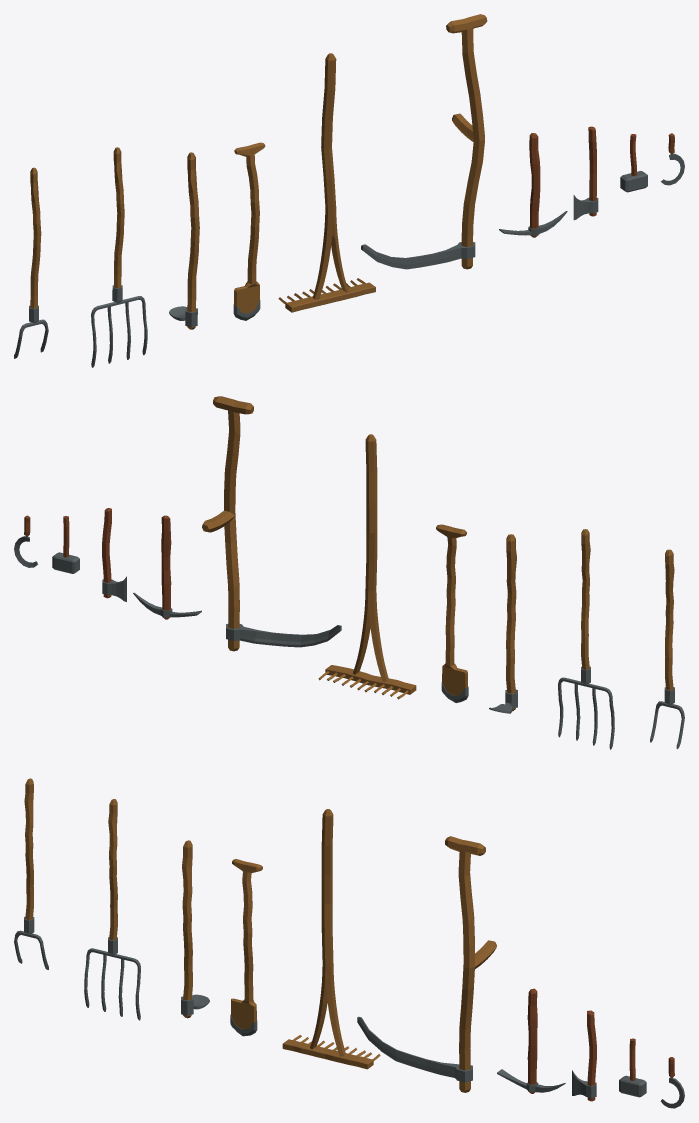
Rendered from axe.glb.
The picture shows the model from 3 angles, top to bottom: view 1: azimuth 30°, elevation 25°; view 2: azimuth 150°, elevation 25°; view 3: azimuth 330°, elevation 25°; orthographic projection.
Parts seen in each view (by area): view 1: Sense, Rake, Forke, Spade, Hoe, Bicorne, Pickaxe, Hammer, Axe; view 2: Sense, Rake, Forke, Spade, Hoe, Bicorne, Pickaxe, Hammer, Axe; view 3: Sense, Rake, Forke, Spade, Hoe, Bicorne, Pickaxe, Hammer, Axe.
Part boxes in pixels (box(x1,y1,x2,y2)): Sense: box(361, 14, 487, 269); Rake: box(278, 53, 375, 312); Forke: box(91, 147, 147, 367); Spade: box(233, 142, 265, 320); Hoe: box(169, 152, 199, 329); Bicorne: box(14, 167, 48, 358); Pickaxe: box(499, 133, 567, 237); Hammer: box(620, 134, 647, 192); Axe: box(588, 126, 596, 216); Sense: box(202, 396, 341, 651); Rake: box(318, 434, 416, 699); Forke: box(558, 529, 614, 749); Spade: box(436, 524, 468, 702); Hoe: box(489, 534, 517, 713); Bicorne: box(650, 549, 684, 748); Pickaxe: box(133, 515, 201, 619); Hammer: box(52, 516, 79, 573); Axe: box(102, 508, 111, 598); Sense: box(357, 836, 496, 1092); Rake: box(282, 809, 380, 1069); Forke: box(84, 799, 140, 1020); Spade: box(230, 859, 262, 1036); Hoe: box(181, 840, 209, 1018); Bicorne: box(14, 778, 48, 969); Pickaxe: box(497, 988, 565, 1093); Hammer: box(619, 1038, 646, 1097); Axe: box(587, 1010, 596, 1101).
Size of the model in its own units: 4.7 by 1.74 by 0.3293.
